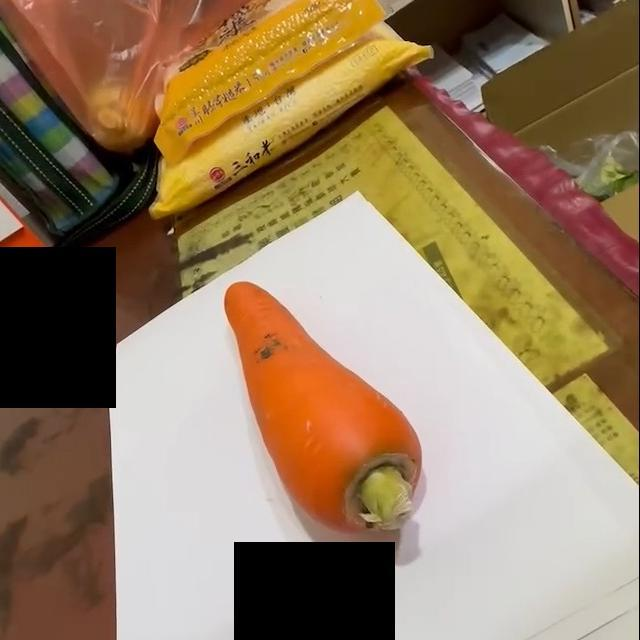carrot: (223, 280, 426, 538)
